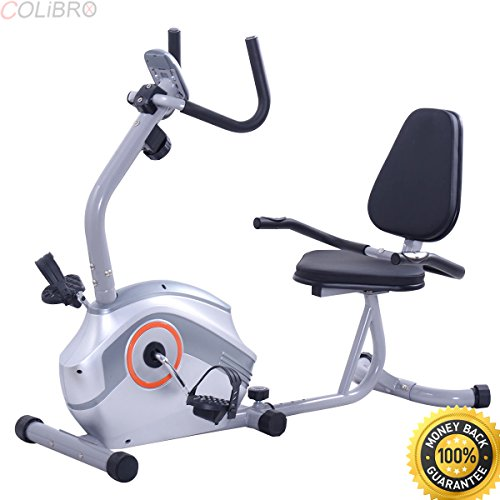gym_bike: (10, 27, 491, 483)
